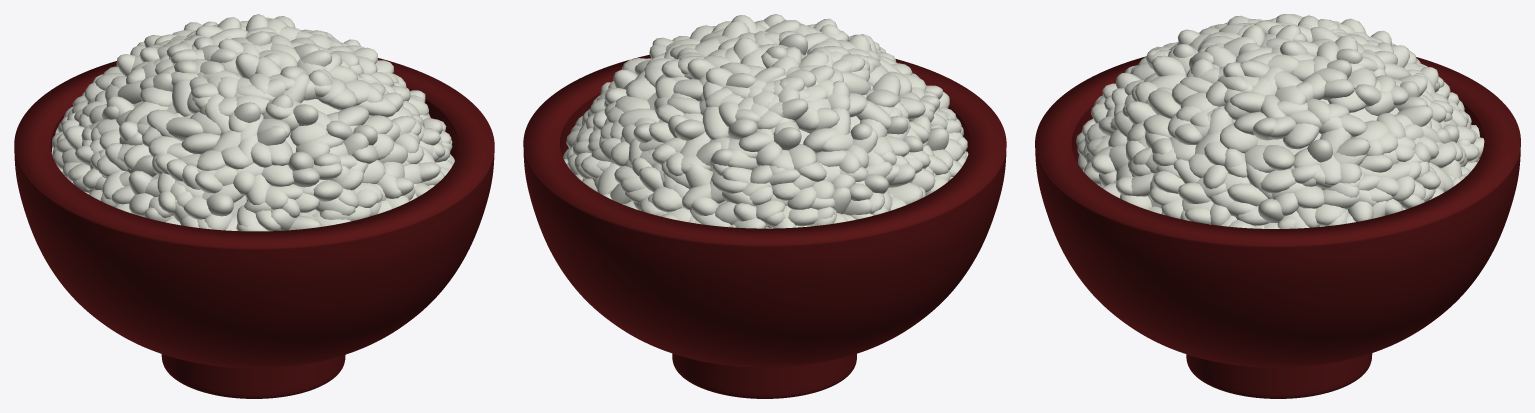
File: Arroz.fbx
3 views of the same model, side by side, from view 1: azimuth 30°, elevation 25°; view 2: azimuth 150°, elevation 25°; view 3: azimuth 270°, elevation 25° (orthographic).
Visible parts, largest first — view 1: Bol, Cube.005, Cube.005|Cube.006|Dupli|2, Cube.005|Cube.006|Dupli|33, Cube.005|Cube.006|Dupli|667, Cube.005|Cube.006|Dupli|35, Cube.005|Cube.006|Dupli|23, Cube.005|Cube.006|Dupli|643, Cube.005|Cube.006|Dupli|155, Cube.005|Cube.006|Dupli|144, Cube.005|Cube.006|Dupli|25, Cube.005|Cube.006|Dupli|651 (+19 smaller); view 2: Bol, Cube.005|Cube.006|Dupli|67, Cube.005|Cube.006|Dupli|804, Cube.005|Cube.006|Dupli|835, Cube.005|Cube.006|Dupli|58, Cube.005|Cube.006|Dupli|19, Cube.005|Cube.006|Dupli|979, Cube.005|Cube.006|Dupli|61, Cube.005|Cube.006|Dupli|13, Cube.005|Cube.006|Dupli|816, Cube.005|Cube.006|Dupli|59, Cube.005|Cube.006|Dupli|98 (+15 smaller); view 3: Bol, Cube.005|Cube.006|Dupli|97, Cube.005|Cube.006|Dupli|95, Cube.005|Cube.006|Dupli|742, Cube.005, Cube.005|Cube.006|Dupli|701, Cube.005|Cube.006|Dupli|728, Cube.005|Cube.006|Dupli|144, Cube.005|Cube.006|Dupli|745, Cube.005|Cube.006|Dupli|117, Cube.005|Cube.006|Dupli|140, Cube.005|Cube.006|Dupli|123 (+26 smaller).
Boxes of the visible parts, box(x1,y1,x2,y2) form: Bol: box(14, 58, 494, 398); Cube.005: box(133, 75, 340, 216); Cube.005|Cube.006|Dupli|2: box(166, 117, 203, 140); Cube.005|Cube.006|Dupli|33: box(181, 133, 220, 154); Cube.005|Cube.006|Dupli|667: box(261, 164, 294, 186); Cube.005|Cube.006|Dupli|35: box(172, 80, 191, 116); Cube.005|Cube.006|Dupli|23: box(147, 109, 183, 141); Cube.005|Cube.006|Dupli|643: box(206, 193, 233, 216); Cube.005|Cube.006|Dupli|155: box(290, 123, 325, 145); Cube.005|Cube.006|Dupli|144: box(337, 106, 368, 126); Cube.005|Cube.006|Dupli|25: box(140, 87, 172, 106); Cube.005|Cube.006|Dupli|651: box(313, 180, 342, 201); Bol: box(523, 54, 1006, 398); Cube.005|Cube.006|Dupli|67: box(702, 106, 729, 139); Cube.005|Cube.006|Dupli|804: box(652, 186, 682, 212); Cube.005|Cube.006|Dupli|835: box(788, 143, 816, 170); Cube.005|Cube.006|Dupli|58: box(674, 119, 705, 140); Cube.005|Cube.006|Dupli|19: box(803, 128, 837, 153); Cube.005|Cube.006|Dupli|979: box(887, 182, 922, 204); Cube.005|Cube.006|Dupli|61: box(738, 132, 774, 151); Cube.005|Cube.006|Dupli|13: box(856, 100, 890, 129); Cube.005|Cube.006|Dupli|816: box(685, 162, 712, 188); Cube.005|Cube.006|Dupli|59: box(773, 127, 801, 150); Cube.005|Cube.006|Dupli|98: box(626, 77, 655, 99); Bol: box(1035, 56, 1520, 398); Cube.005|Cube.006|Dupli|97: box(1220, 122, 1258, 153); Cube.005|Cube.006|Dupli|95: box(1283, 123, 1319, 149); Cube.005|Cube.006|Dupli|742: box(1263, 145, 1295, 170); Cube.005: box(1148, 74, 1399, 207); Cube.005|Cube.006|Dupli|701: box(1227, 183, 1267, 206); Cube.005|Cube.006|Dupli|728: box(1260, 169, 1296, 193); Cube.005|Cube.006|Dupli|144: box(1148, 89, 1180, 118); Cube.005|Cube.006|Dupli|745: box(1294, 186, 1324, 208); Cube.005|Cube.006|Dupli|117: box(1230, 91, 1265, 112); Cube.005|Cube.006|Dupli|140: box(1151, 55, 1185, 76); Cube.005|Cube.006|Dupli|123: box(1322, 79, 1354, 100).
Bounding box in the file's own units: 12.39 × 9.2 × 12.39.
